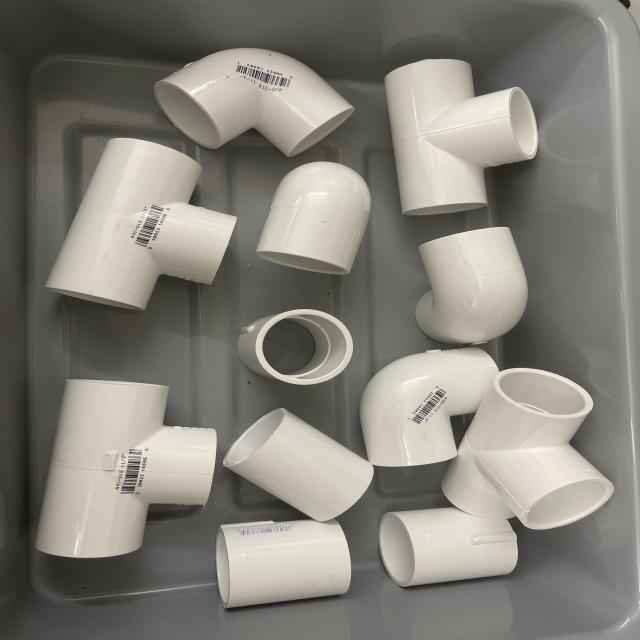L Joint: (151, 48, 356, 159), (358, 347, 499, 468)
T Joint: (35, 379, 219, 562), (48, 138, 238, 313), (442, 368, 616, 532), (388, 63, 540, 218)
